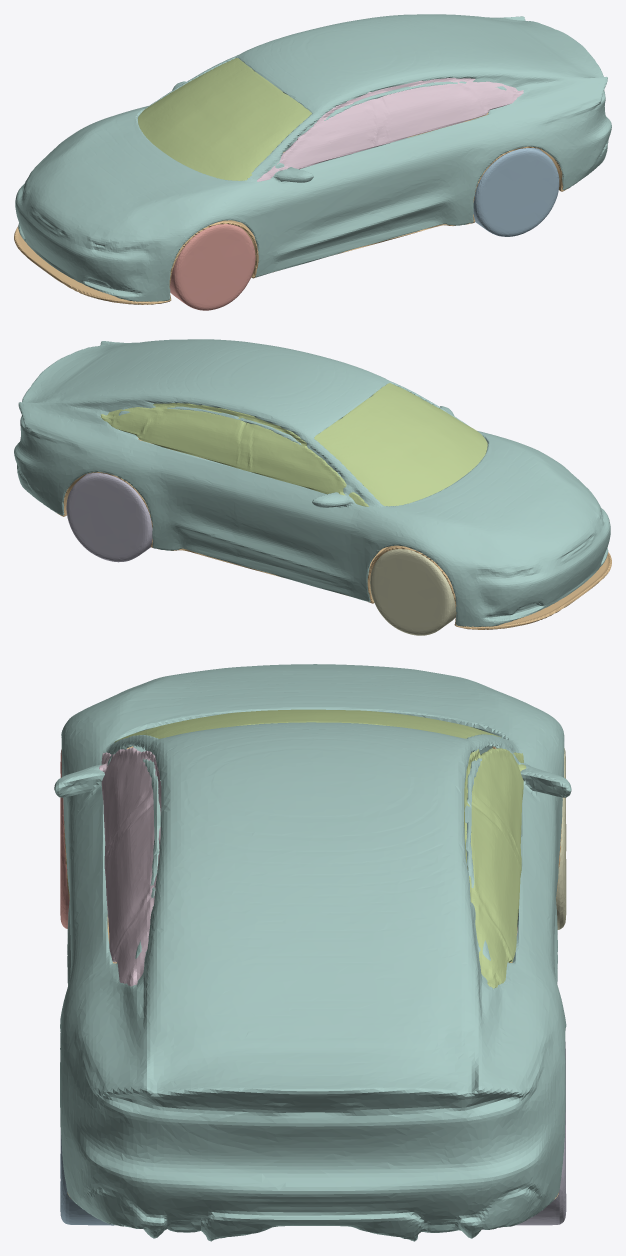
File: apple-aether.glb
3 views of the same model, one above another, from view 1: azimuth 30°, elevation 25°; view 2: azimuth 150°, elevation 25°; view 3: azimuth 270°, elevation 25° (orthographic). The views are drawn at different scales.
Visible parts, largest first — view 1: world; view 2: world; view 3: world.
Part boxes in pixels (box(x1,y1,x2,y2)): world: box(14, 14, 611, 310); world: box(14, 339, 611, 635); world: box(54, 664, 571, 1241).
Bounding box in the file's own units: 1.89 × 0.5673 × 0.7964.
